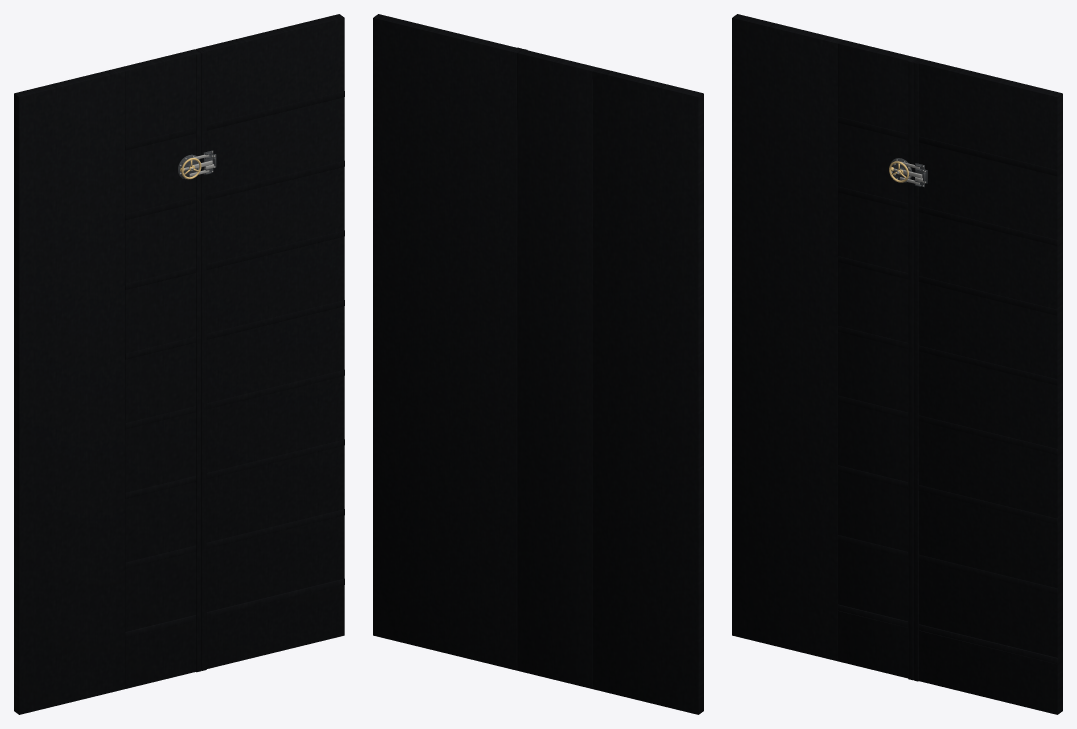
The model's file is steel.glb.
3 views of the same model, side by side, from view 1: azimuth 30°, elevation 25°; view 2: azimuth 150°, elevation 25°; view 3: azimuth 330°, elevation 25° (orthographic).
Parts seen in each view (by area): view 1: frameDoor, jamb, leafDoor; view 2: frameDoor, jamb, leafDoor; view 3: frameDoor, jamb, leafDoor.
Boxes of the visible parts, bbox=[...] form: frameDoor: bbox=[196, 14, 344, 670]; jamb: bbox=[14, 67, 125, 714]; leafDoor: bbox=[120, 49, 201, 688]; frameDoor: bbox=[373, 14, 521, 670]; jamb: bbox=[592, 67, 703, 714]; leafDoor: bbox=[517, 49, 597, 688]; frameDoor: bbox=[913, 58, 1062, 714]; jamb: bbox=[732, 14, 842, 661]; leafDoor: bbox=[838, 40, 918, 680].
Bounding box in the file's own units: 215 × 390 × 9.92.
4 materials, 1 textured.
